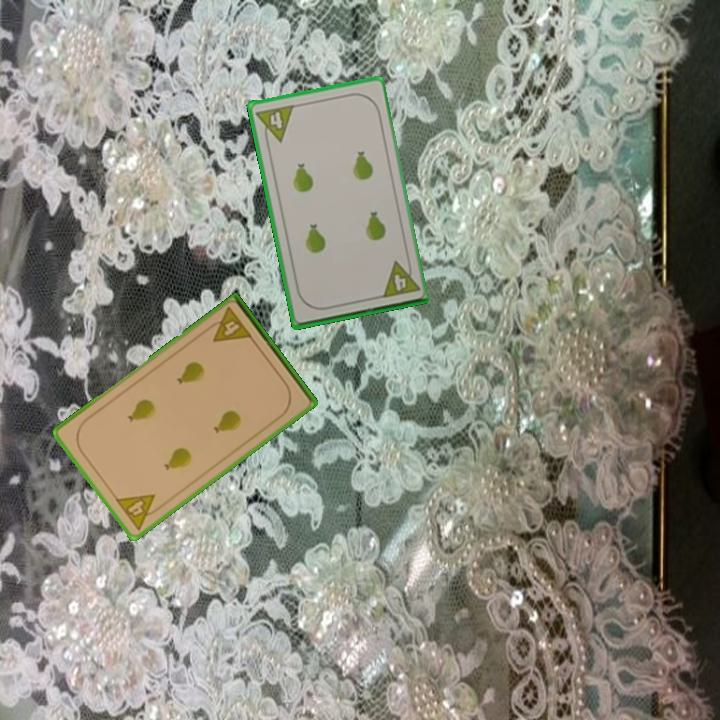4p: (112, 491, 166, 533), (202, 303, 255, 345), (252, 101, 296, 147), (377, 256, 421, 301)
